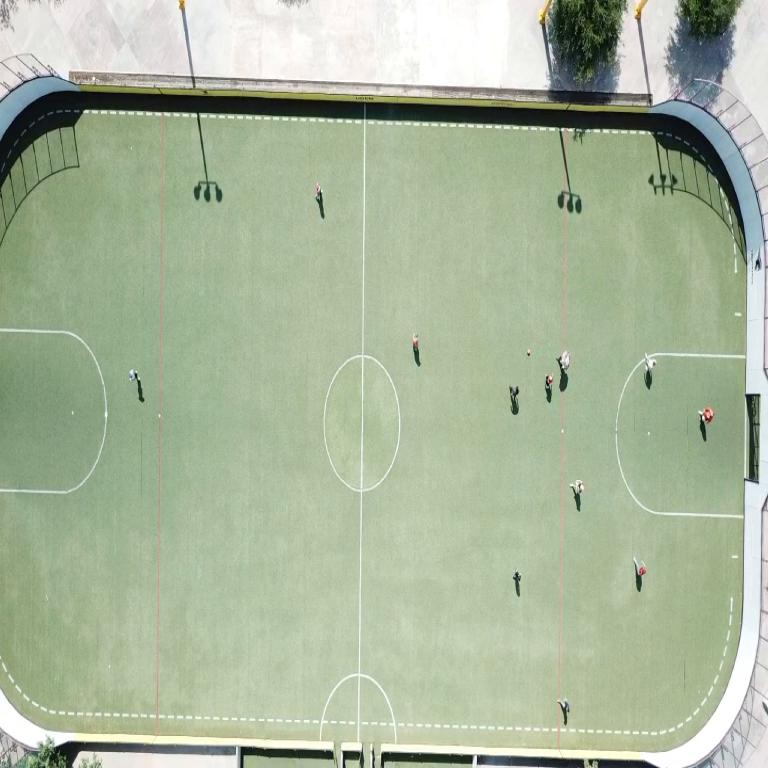AC: (615, 358, 742, 519), (0, 328, 107, 494)
B: (527, 349, 530, 355)
MC: (356, 104, 366, 741)
P: (557, 350, 570, 371), (633, 557, 646, 577), (699, 407, 713, 424), (645, 355, 656, 375), (570, 480, 584, 495), (558, 698, 569, 713), (510, 386, 519, 399), (513, 568, 521, 582), (129, 370, 139, 381), (316, 183, 322, 201), (546, 375, 553, 390), (414, 333, 418, 350)
